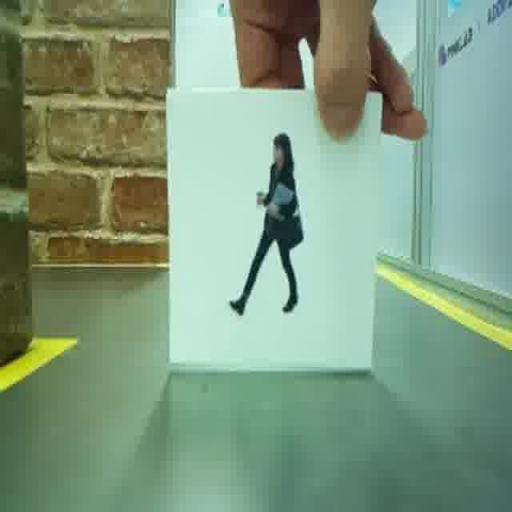human: (229, 133, 303, 315)
